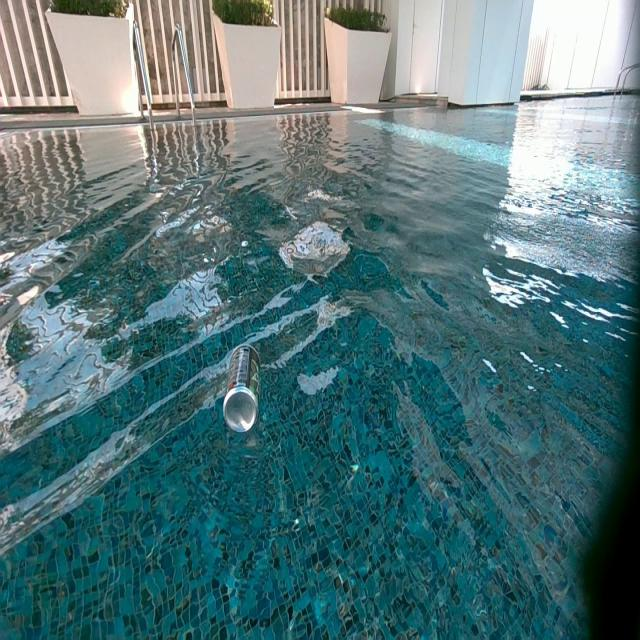Cans: (223, 342, 259, 433)
